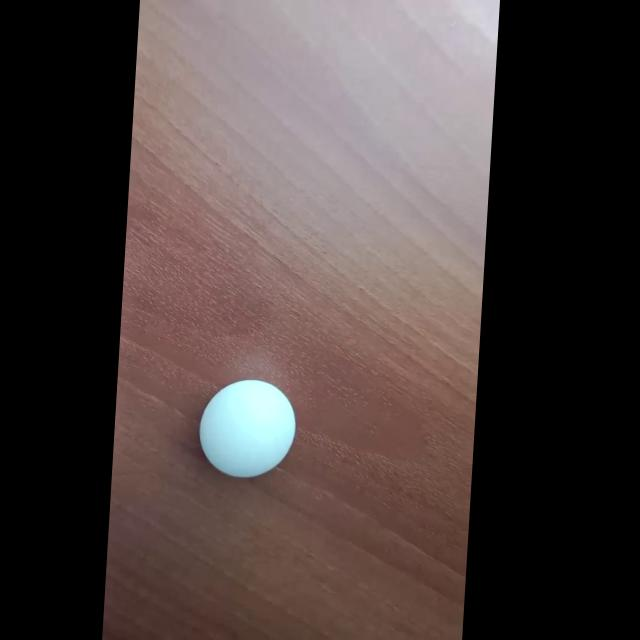white ball: (195, 378, 298, 478)
